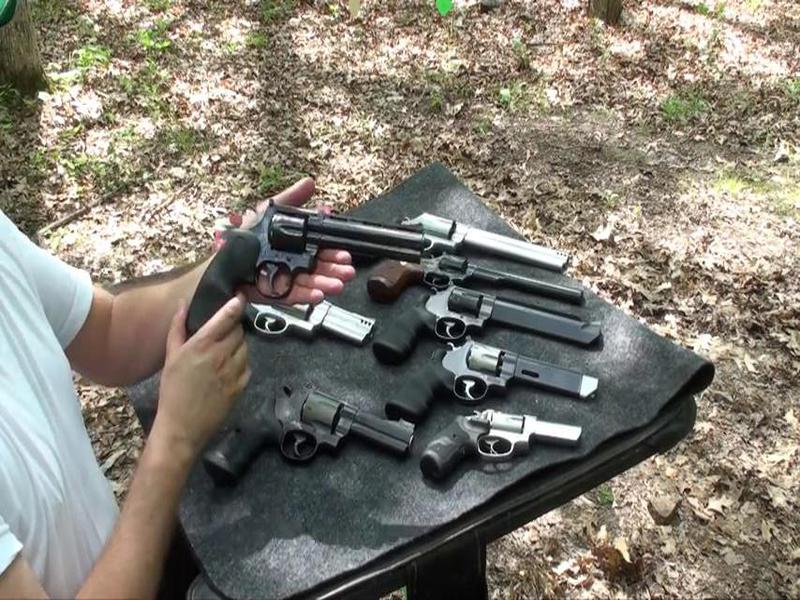Revolver: (196, 200, 430, 315), (241, 383, 420, 491), (428, 405, 586, 483)
